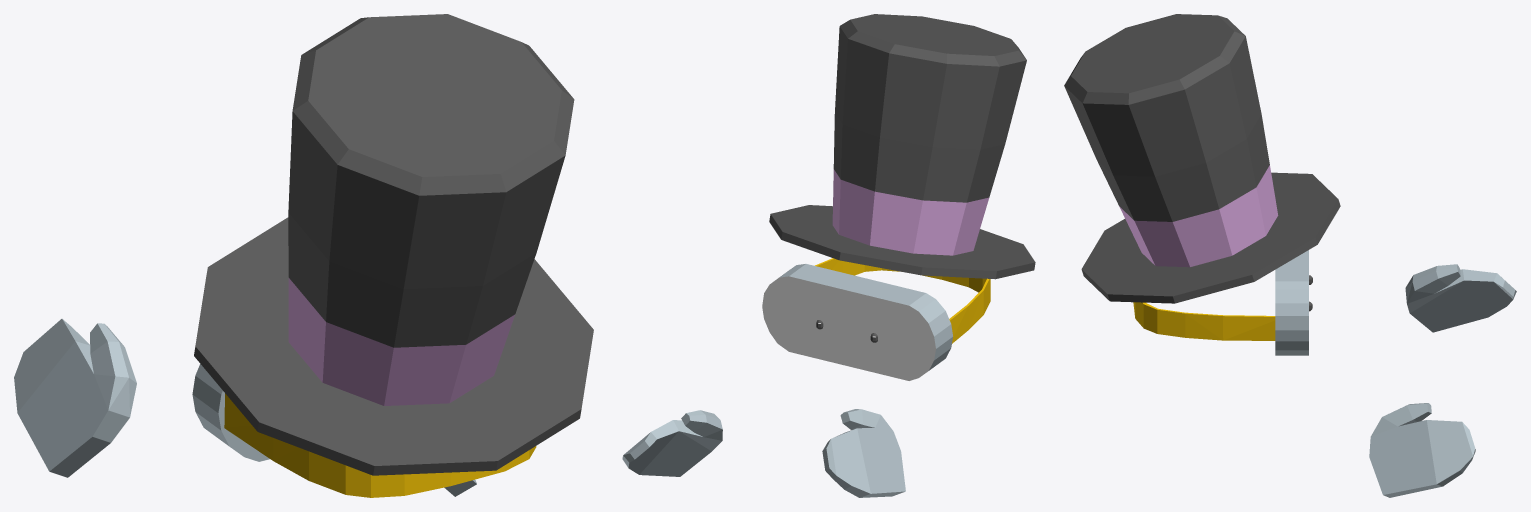
The model's file is VR user magician.glb.
The picture shows the model from 3 angles, left to right: view 1: azimuth 30°, elevation 25°; view 2: azimuth 150°, elevation 25°; view 3: azimuth 270°, elevation 25°; orthographic projection. The views are drawn at different scales.
Visible parts, largest first — view 1: group1346223662, group598558126, group141780190, group708664798; view 2: group1346223662, group708664798, group598558126, group897859591, group141780190; view 3: group1346223662, group897859591, group598558126, group141780190, group708664798.
Boxes of the visible parts, x1=… form: group1346223662: x1=194, y1=14, x2=593, y2=475; group598558126: x1=14, y1=319, x2=136, y2=477; group141780190: x1=224, y1=393, x2=536, y2=497; group708664798: x1=192, y1=364, x2=269, y2=461; group1346223662: x1=769, y1=14, x2=1035, y2=279; group708664798: x1=762, y1=264, x2=952, y2=380; group598558126: x1=822, y1=409, x2=905, y2=497; group897859591: x1=622, y1=410, x2=722, y2=476; group141780190: x1=815, y1=258, x2=990, y2=343; group1346223662: x1=1064, y1=14, x2=1340, y2=303; group897859591: x1=1369, y1=403, x2=1475, y2=497; group598558126: x1=1405, y1=264, x2=1516, y2=332; group141780190: x1=1133, y1=302, x2=1275, y2=340; group708664798: x1=1275, y1=250, x2=1308, y2=355.
Size of the model in its own units: 1.56 by 2.25 by 2.3.
